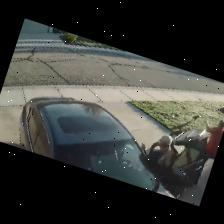person: (188, 121, 223, 185), (142, 136, 172, 167)
